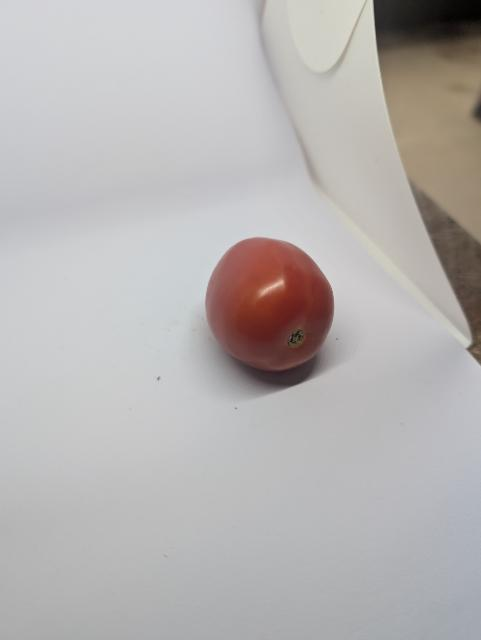red: (190, 228, 347, 388)
